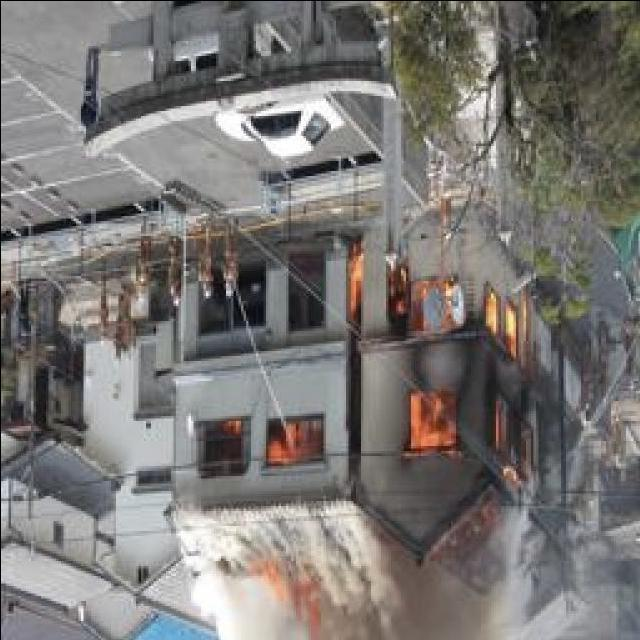Fire: (340, 234, 554, 481), (246, 543, 333, 620), (208, 411, 328, 462)
